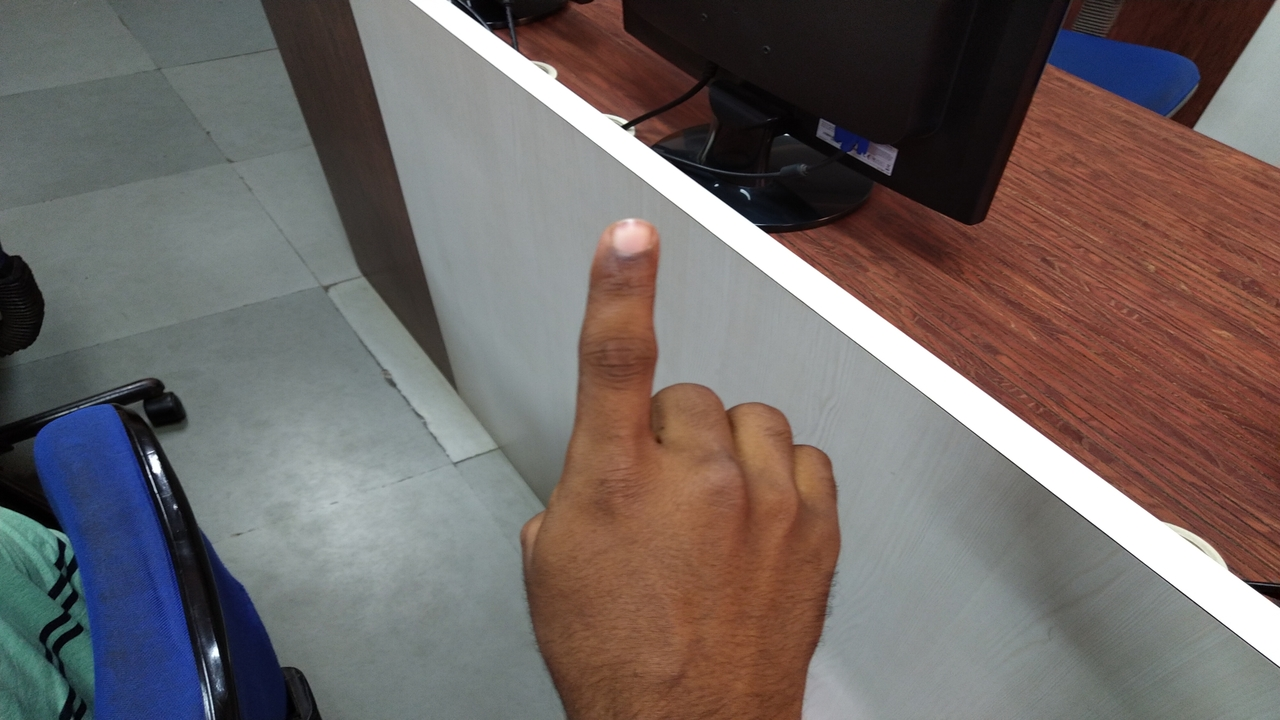fingertip: (586, 210, 662, 278)
